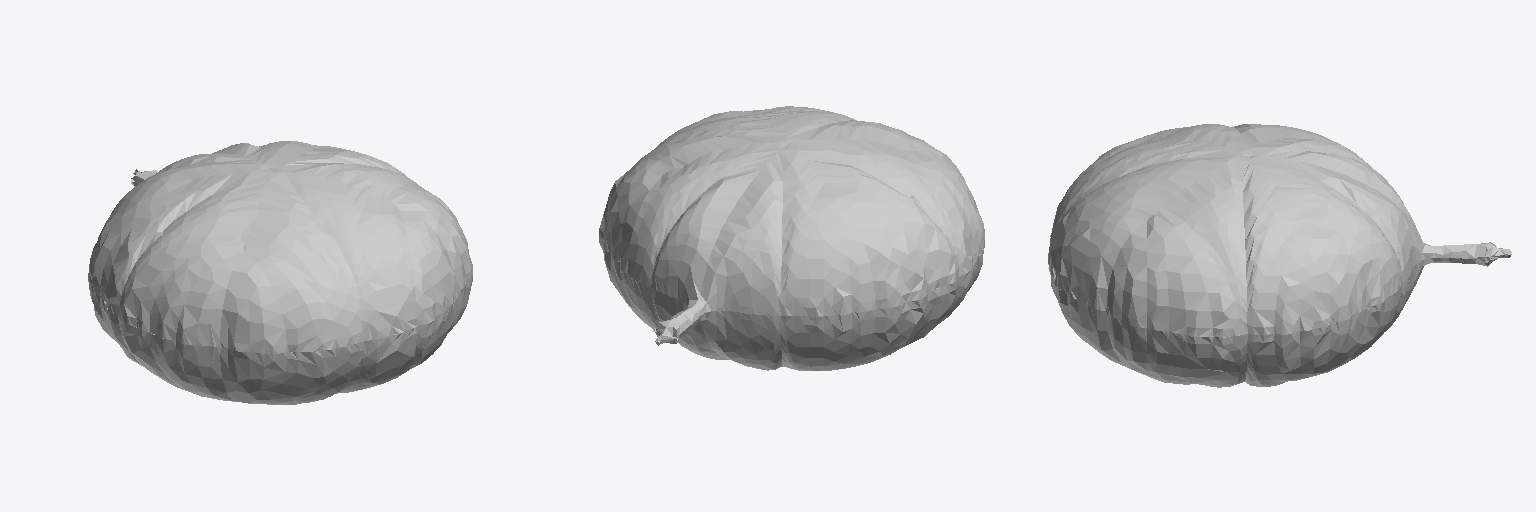
Rendered from balloon.obj.
The picture shows the model from 3 angles: view 1: azimuth 30°, elevation 25°; view 2: azimuth 150°, elevation 25°; view 3: azimuth 270°, elevation 25°; orthographic projection.
Visible parts, largest first — view 1: the_balloon; view 2: the_balloon; view 3: the_balloon.
Part boxes in pixels (x1,y1,x2,y2): the_balloon: (88,141,472,404); the_balloon: (599,106,984,370); the_balloon: (1048,124,1511,387).
Bounding box in the file's own units: 664 × 380 × 798.